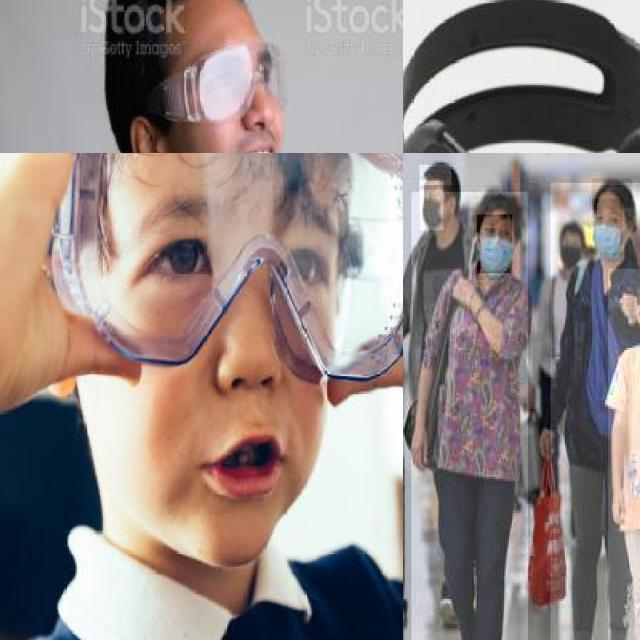Ear-protection: (403, 9, 640, 153)
No_Ear-Protection: (127, 117, 170, 153)
face_mask: (477, 214, 514, 276), (592, 198, 624, 258), (419, 183, 445, 235), (558, 235, 582, 269)
face_nomask: (120, 215, 338, 516), (197, 49, 293, 153)
glasses: (56, 153, 403, 375), (133, 38, 288, 135)
hand_noglove: (0, 153, 152, 384), (341, 153, 403, 411), (406, 426, 431, 471), (534, 425, 561, 465), (605, 487, 629, 530)
head_nohelmet: (113, 0, 254, 38), (474, 196, 525, 224), (592, 178, 634, 210), (419, 165, 453, 187)
person: (28, 0, 403, 153), (411, 191, 529, 640), (550, 182, 640, 640), (608, 268, 640, 640)
shoes: (457, 605, 486, 640)
